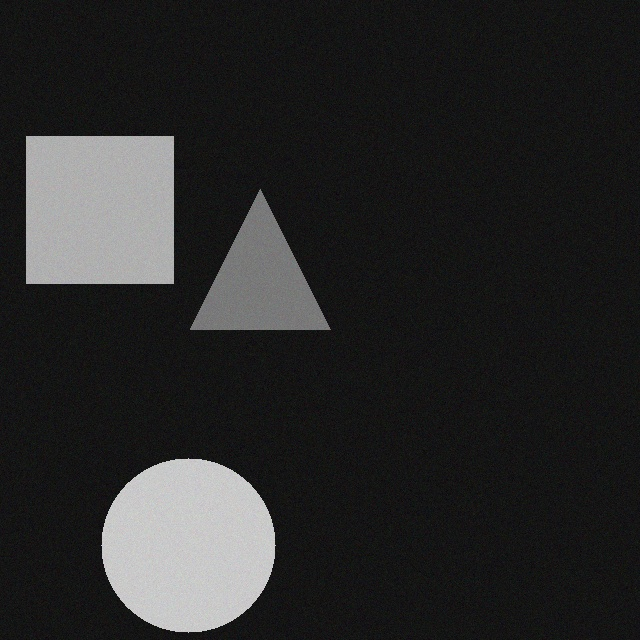circle: (90, 445, 264, 619)
square: (15, 123, 162, 270)
triangle: (179, 176, 319, 316)
